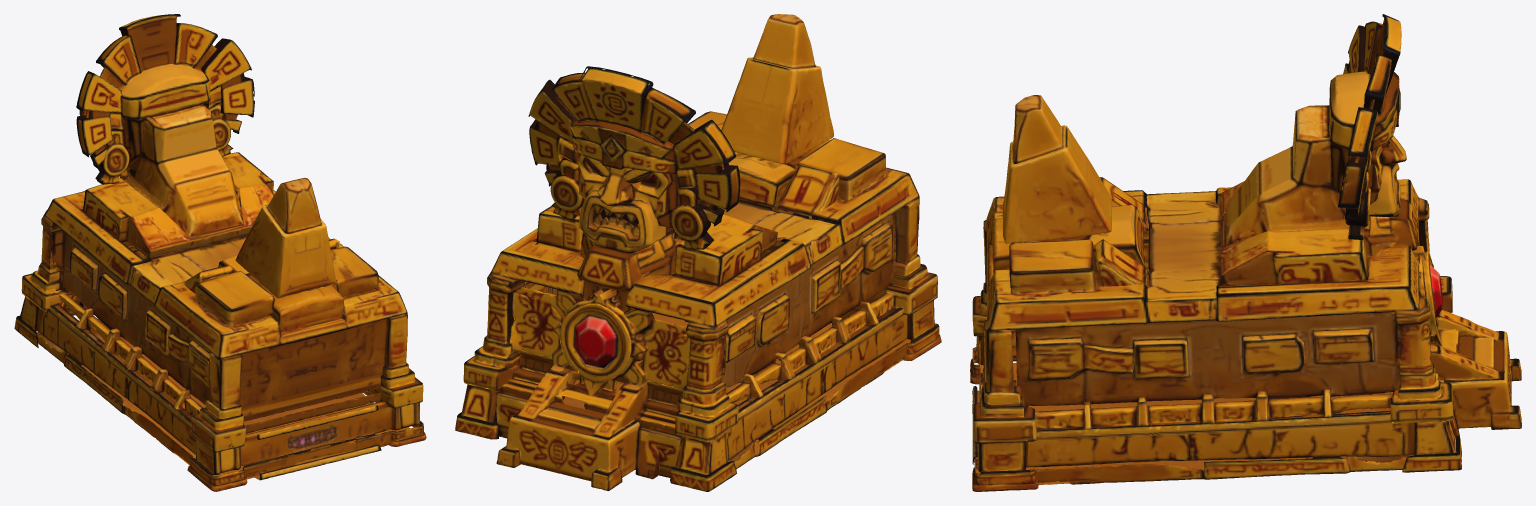
Rendered from idolaltar.glb.
The picture shows the model from 3 angles, left to right: view 1: azimuth 30°, elevation 25°; view 2: azimuth 150°, elevation 25°; view 3: azimuth 270°, elevation 25°; orthographic projection. The views are drawn at different scales.
Parts seen in each view (by area): view 1: world; view 2: world; view 3: world.
Part boxes in pixels (<box>): world: <box>14,14,426,491</box>; world: <box>455,14,941,491</box>; world: <box>970,14,1521,491</box>.
Size of the model in its own units: 0.5243 by 0.7567 by 0.9447.
Materials: 1 (1 with a texture image).
